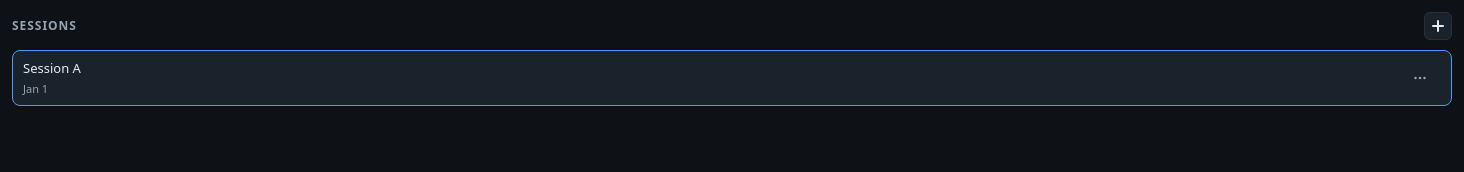
session delete confirmation › creates and focuses an empty fallback when the last session is deleted
Click the button with class "session-actions-trigger".
click(1420, 78)  # box [1394, 64, 1446, 92]
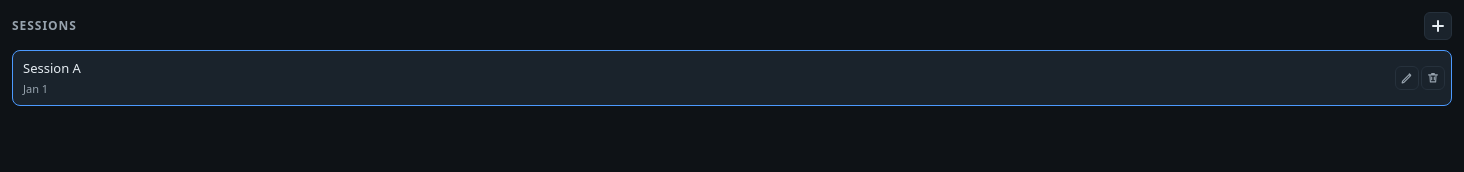
Click the button named "Delete session".
click(1433, 78)  # box [1421, 66, 1445, 90]
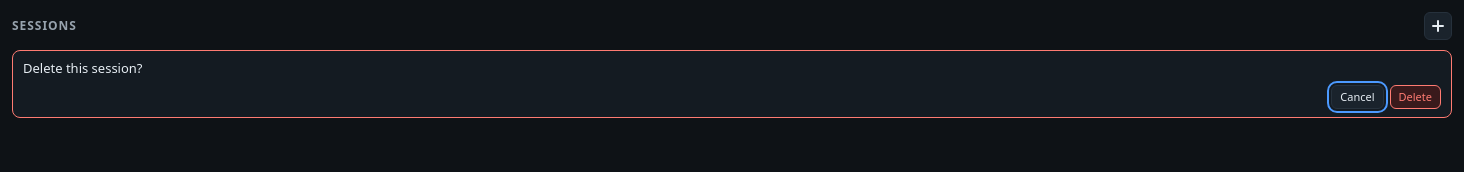
Click the button with class "session-delete-confirm-button".
click(1415, 97)  # box [1390, 84, 1441, 109]
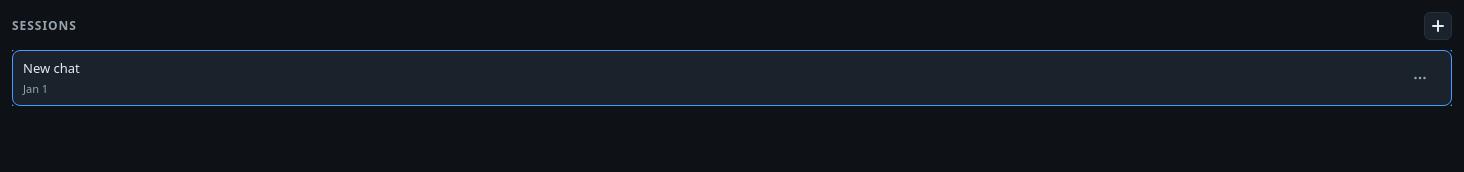
Check: the text with class "session-title" reads "New chat", box [23, 59, 80, 77]
